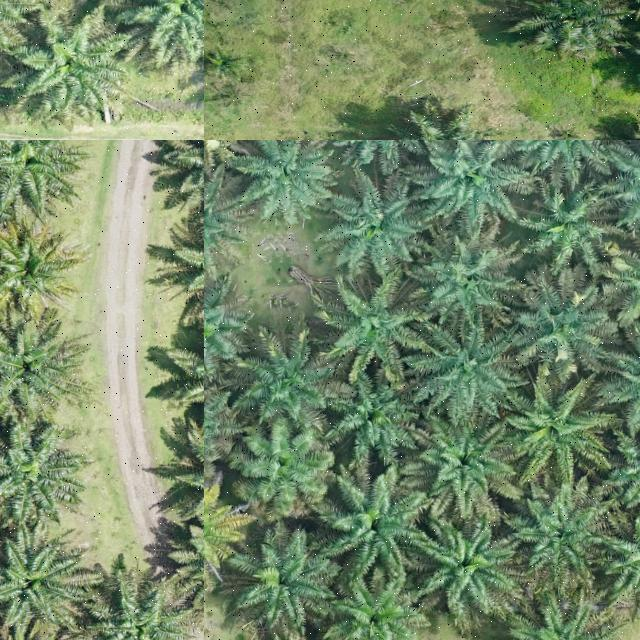Ganoderma: (204, 502, 224, 564)
